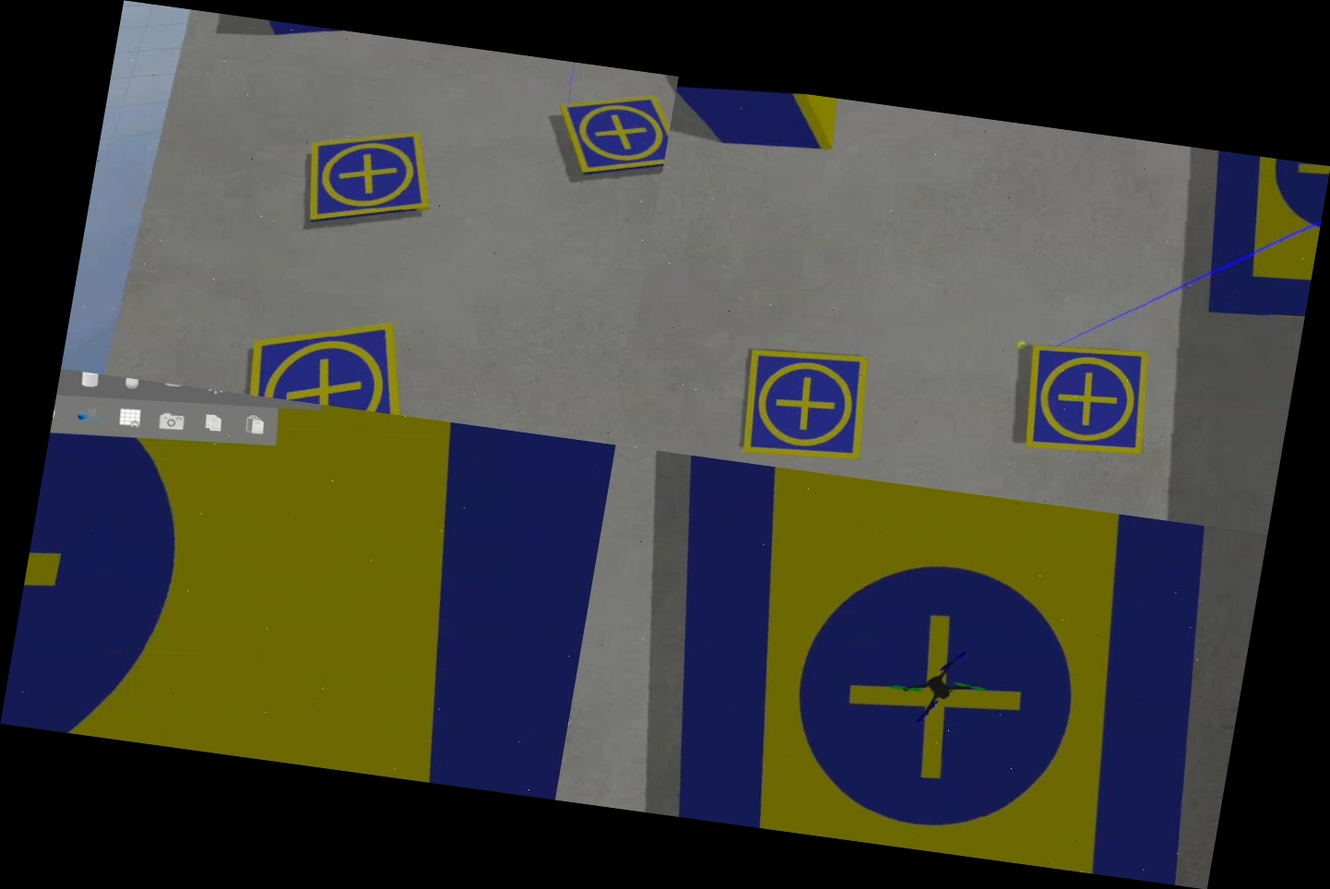large_base: (625, 455, 1253, 887), (0, 369, 615, 800), (1187, 150, 1330, 326)
small_base: (238, 302, 430, 417), (730, 339, 879, 473), (1011, 333, 1161, 465), (292, 118, 442, 238), (548, 82, 675, 189)
